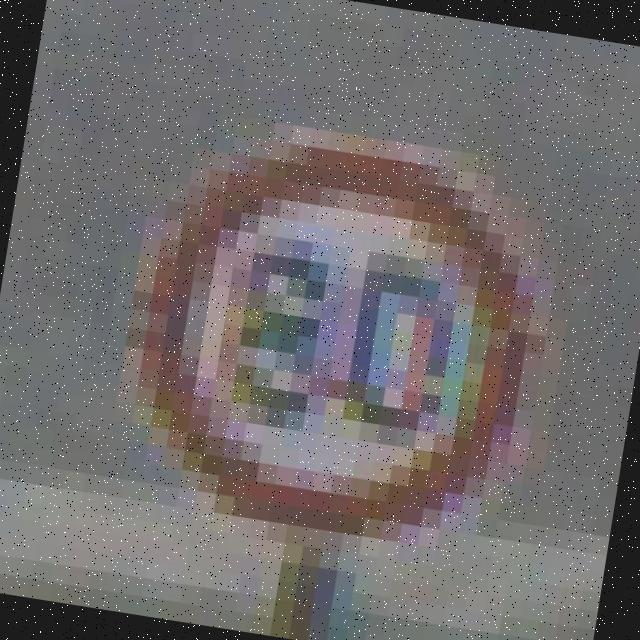Ograniczenie predkosci do 80: (123, 117, 556, 554)
